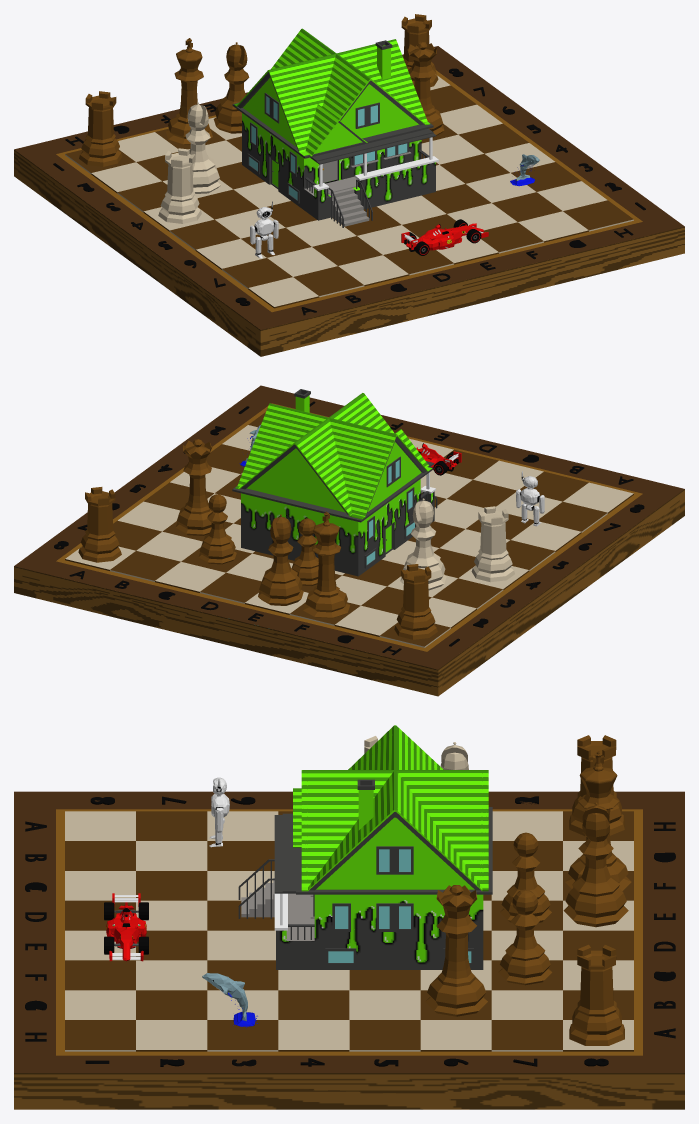
3 renders of one model, top to bottom at view 1: azimuth 30°, elevation 25°; view 2: azimuth 150°, elevation 25°; view 3: azimuth 270°, elevation 25°, orthographic. The views are drawn at different scales.
Visible parts, largest first — view 1: Cube.002, Cube.754, VEHICLES_FORMULA_1, OBJRANDOM_PLATZEEBOT; view 2: Cube.002, Cube.754, OBJRANDOM_PLATZEEBOT, VEHICLES_FORMULA_1; view 3: Cube.002, Cube.754, VEHICLES_FORMULA_1, ANIMAL_DELFIN, OBJRANDOM_PLATZEEBOT.
Part boxes in pixels (x1=…): Cube.002: x1=14, y1=14, x2=684, y2=356; Cube.754: x1=232, y1=28, x2=438, y2=227; VEHICLES_FORMULA_1: x1=401, y1=219, x2=488, y2=255; OBJRANDOM_PLATZEEBOT: x1=250, y1=201, x2=278, y2=258; Cube.002: x1=14, y1=385, x2=684, y2=696; Cube.754: x1=232, y1=389, x2=437, y2=576; OBJRANDOM_PLATZEEBOT: x1=516, y1=471, x2=544, y2=526; VEHICLES_FORMULA_1: x1=416, y1=443, x2=461, y2=475; Cube.002: x1=14, y1=735, x2=684, y2=1109; Cube.754: x1=238, y1=725, x2=492, y2=969; VEHICLES_FORMULA_1: x1=104, y1=893, x2=148, y2=961; ANIMAL_DELFIN: x1=202, y1=973, x2=257, y2=1027; OBJRANDOM_PLATZEEBOT: x1=209, y1=777, x2=229, y2=847.
Bounding box in the file's own units: 3981 × 1461 × 4012.
37 materials, 3 textured.
